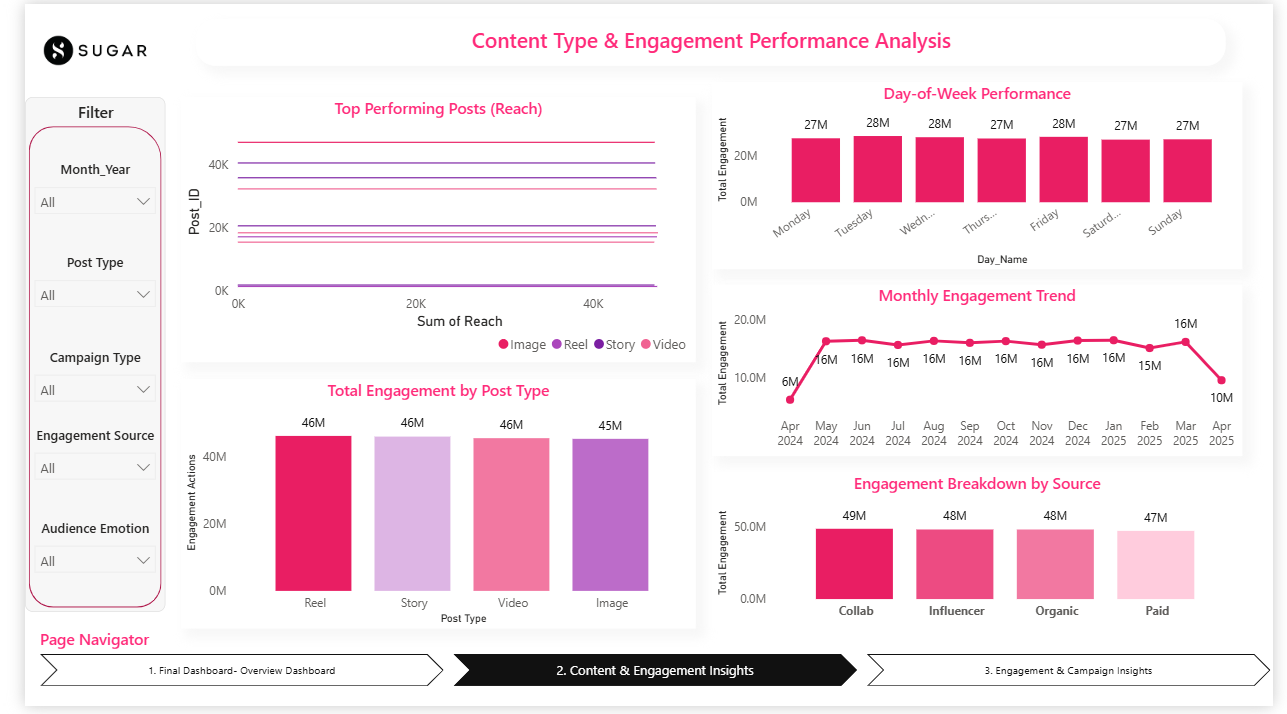

The dashboard page shown, as its layout file describes it:
{"tool":"powerbi","page":{"name":"2. Content & Engagement Insights","canvas":[1280,720],"ordinal":13},"visuals":[{"type":"textbox","title":"Content Type & Engagement Performance Analysis","box":[176,16,1056,48],"z":0},{"type":"image","box":[0,0,144,96],"z":1000},{"type":"shape","title":"Filter","box":[0,96,144,528],"z":2000},{"type":"slicer","title":"Month_Year","fields":{"Values":["sugar_cosmetics_instagram_data.Month_Year"]},"box":[0,160,144,64],"z":3000},{"type":"slicer","title":"Post Type","fields":{"Values":["sugar_cosmetics_instagram_data.Post Type"]},"box":[0,256,144,64],"z":4000},{"type":"slicer","title":"Campaign Type","fields":{"Values":["sugar_cosmetics_instagram_data.Campaign Type"]},"box":[0,352,144,64],"z":5000},{"type":"slicer","title":"Engagement Source","fields":{"Values":["sugar_cosmetics_instagram_data.Engagement Source"]},"box":[0,432,144,80],"z":6000},{"type":"slicer","title":"Audience Emotion","fields":{"Values":["sugar_cosmetics_instagram_data.Audience Emotion"]},"box":[0,528,144,80],"z":7000},{"type":"pageNavigator","title":"Page Navigator","box":[16,640,1264,60],"z":8000},{"type":"clusteredBarChart","title":"Top Performing Posts (Reach)","fields":{"Category":["sugar_cosmetics_instagram_data.Post_ID"],"Y":["Sum(sugar_cosmetics_instagram_data.Reach)"],"Series":["sugar_cosmetics_instagram_data.Post Type"]},"box":[160,96,528,272],"z":9000},{"type":"clusteredColumnChart","title":"Total Engagement by Post Type","fields":{"Category":["sugar_cosmetics_instagram_data.Post Type"],"Y":["sugar_cosmetics_instagram_data.Engagement Actions"]},"box":[160,384,528,256],"z":10000},{"type":"clusteredColumnChart","title":"Day-of-Week Performance","fields":{"Y":["Sum(sugar_cosmetics_instagram_data.Total Engagement)"],"Category":["sugar_cosmetics_instagram_data.Day_Name"]},"box":[704,80,544,192],"z":11000},{"type":"lineChart","title":"Monthly Engagement Trend","fields":{"Category":["sugar_cosmetics_instagram_data.Month_Year"],"Y":["Sum(sugar_cosmetics_instagram_data.Total Engagement)"]},"box":[704,288,544,176],"z":12000},{"type":"clusteredColumnChart","title":"Engagement Breakdown by Source","fields":{"Category":["sugar_cosmetics_instagram_data.Engagement Source"],"Y":["Sum(sugar_cosmetics_instagram_data.Total Engagement)"]},"box":[704,480,544,160],"z":13000}]}

Visuals, with their boxes in screenshot pixels (x1, y1, x2, y2), scaled from the page's 1280x720 canvas onto the 1287x714 screenshot:
"Content Type & Engagement Performance Analysis" textbox: 177/16/1239/63
image: 0/0/145/95
"Filter" shape: 0/95/145/619
"Month_Year" slicer: 0/159/145/222
"Post Type" slicer: 0/254/145/317
"Campaign Type" slicer: 0/349/145/413
"Engagement Source" slicer: 0/428/145/508
"Audience Emotion" slicer: 0/524/145/603
"Page Navigator" pageNavigator: 16/635/1286/694
"Top Performing Posts (Reach)" clusteredBarChart: 161/95/692/365
"Total Engagement by Post Type" clusteredColumnChart: 161/381/692/635
"Day-of-Week Performance" clusteredColumnChart: 708/79/1255/270
"Monthly Engagement Trend" lineChart: 708/286/1255/460
"Engagement Breakdown by Source" clusteredColumnChart: 708/476/1255/635
